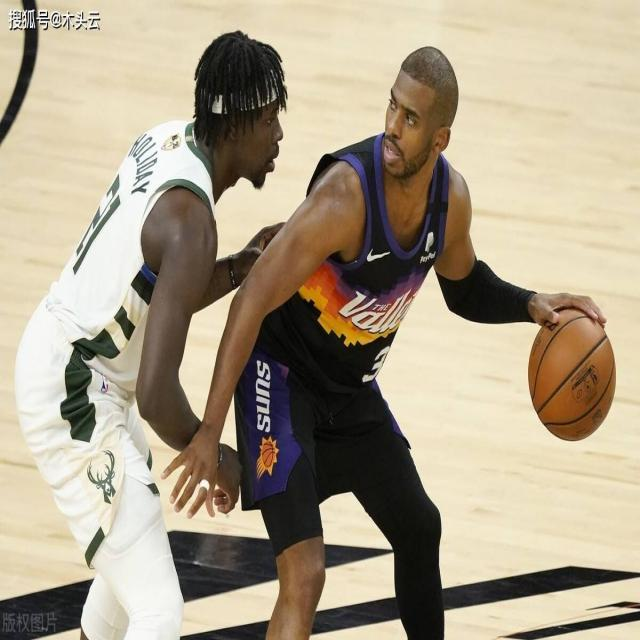rim: (530, 308, 615, 439)
